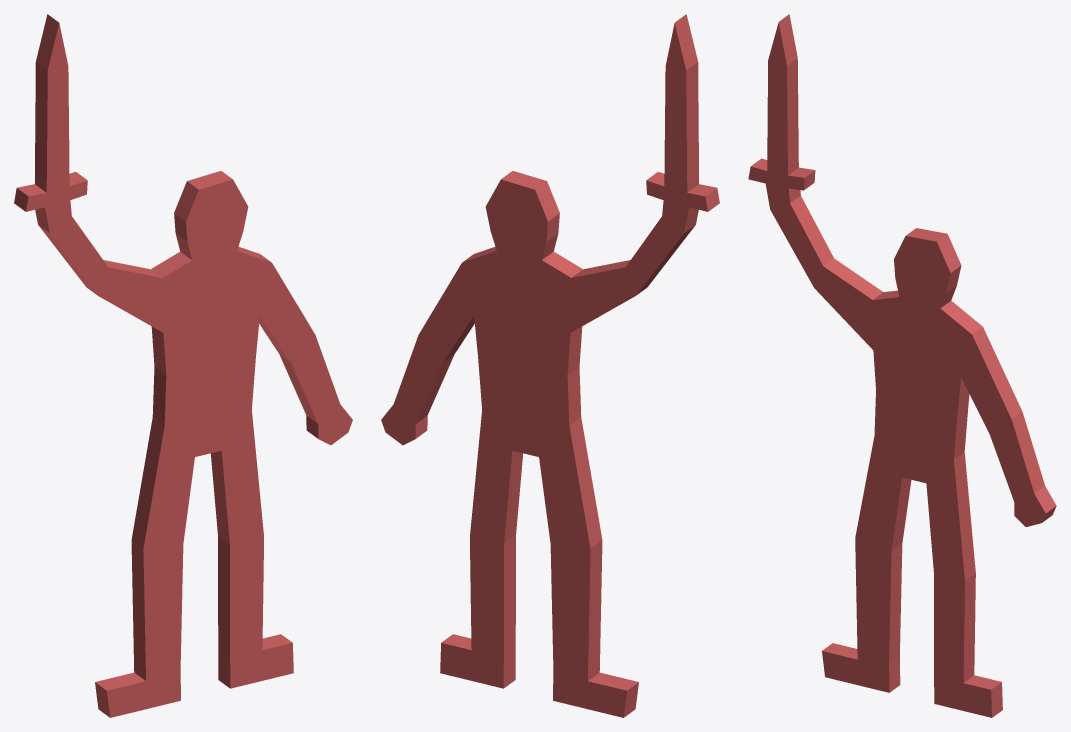
The model's file is SM_peopleRed.fbx.
The picture shows the model from 3 angles, left to right: view 1: azimuth 30°, elevation 25°; view 2: azimuth 150°, elevation 25°; view 3: azimuth 330°, elevation 25°; orthographic projection. The views are drawn at different scales.
Visible parts, largest first — view 1: SM_people; view 2: SM_people; view 3: SM_people.
Part boxes in pixels (left/top/right/bottom): SM_people: left=14, top=14, right=352, bottom=717; SM_people: left=381, top=14, right=719, bottom=717; SM_people: left=748, top=14, right=1056, bottom=717.
Size of the model in its own units: 115 by 239 by 7.27.
